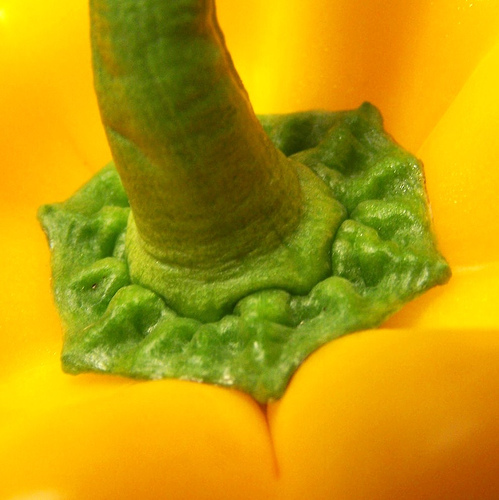capsicum: (0, 0, 497, 498)
